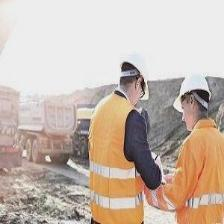Person: (85, 41, 152, 224), (168, 68, 224, 224)
helmet: (171, 72, 213, 115), (117, 50, 150, 100)
vest: (89, 108, 148, 224), (176, 127, 224, 224)
